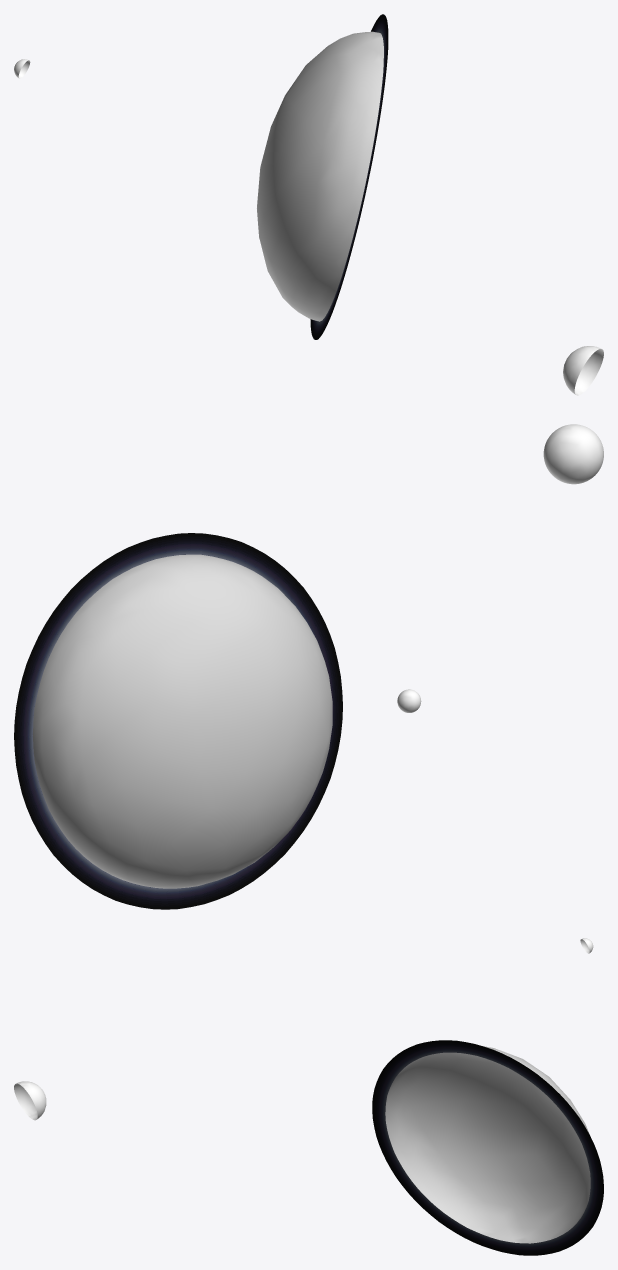
File: env_space_bespin_01_pre.glb
3 views of the same model, one above another, from view 1: azimuth 30°, elevation 25°; view 2: azimuth 150°, elevation 25°; view 3: azimuth 270°, elevation 25° (orthographic). The views are drawn at different scales.
Parts seen in each view (by area): view 1: polySurface1 (×2); view 2: polySurface1 (×2); view 3: polySurface1 (×2).
Part boxes in pixels (<box>): polySurface1 (×2): <box>257,14,603,395</box>; polySurface1 (×2): <box>14,424,603,909</box>; polySurface1 (×2): <box>14,1040,603,1255</box>.
Bounding box in the file's own units: 311 × 250 × 578.
Materials: 3 (1 with a texture image).
